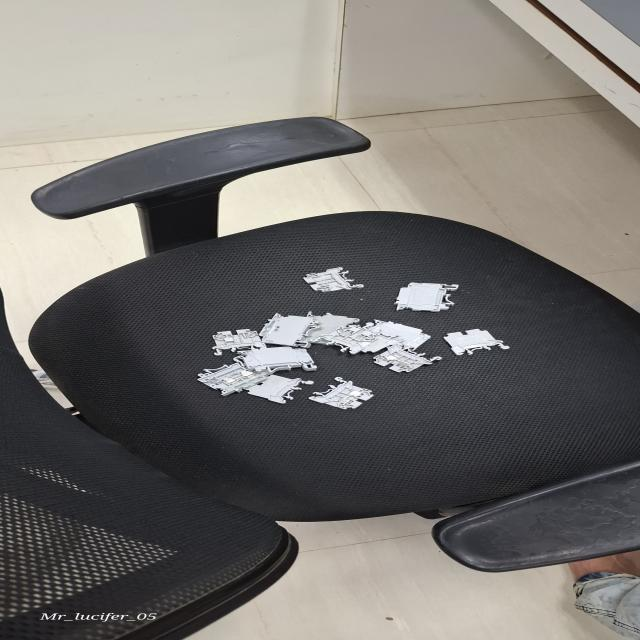Inverted: (441, 323, 511, 356)
Pass: (306, 376, 397, 409), (367, 342, 448, 374), (308, 326, 380, 354)
Reject: (300, 264, 367, 294), (210, 328, 268, 356)
